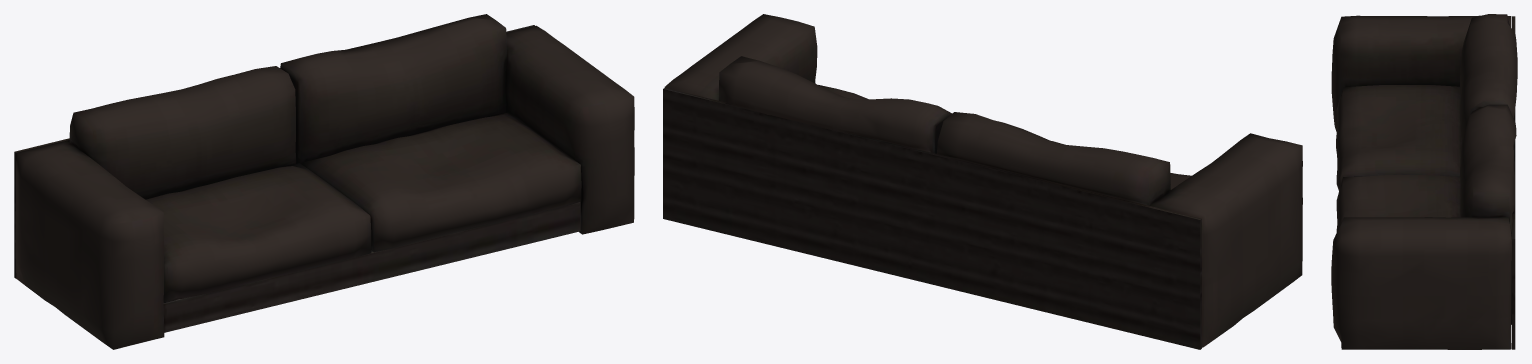
File: sofa-modern.lod0.glb
3 renders of one model, left to right at view 1: azimuth 30°, elevation 25°; view 2: azimuth 150°, elevation 25°; view 3: azimuth 270°, elevation 25°, orthographic. The views are drawn at different scales.
Visible parts, largest first — view 1: Object_4; view 2: Object_4; view 3: Object_4.
Boxes of the visible parts, x1,y1,x2,y2 form: Object_4: (14, 14, 634, 349); Object_4: (663, 14, 1302, 349); Object_4: (1331, 14, 1517, 349).
Size of the model in its own units: 2.3 by 0.6641 by 0.7952.
Materials: 1 (1 with a texture image).
